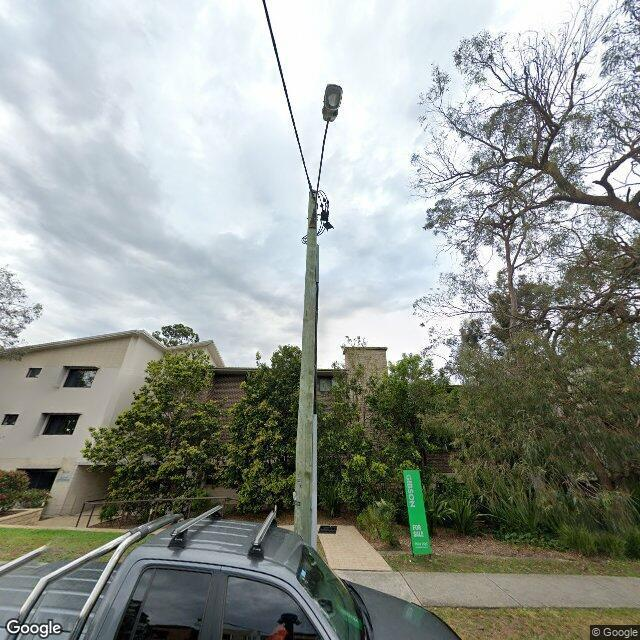streetlight: (310, 84, 343, 230)
timber-pole: (294, 190, 318, 552)
